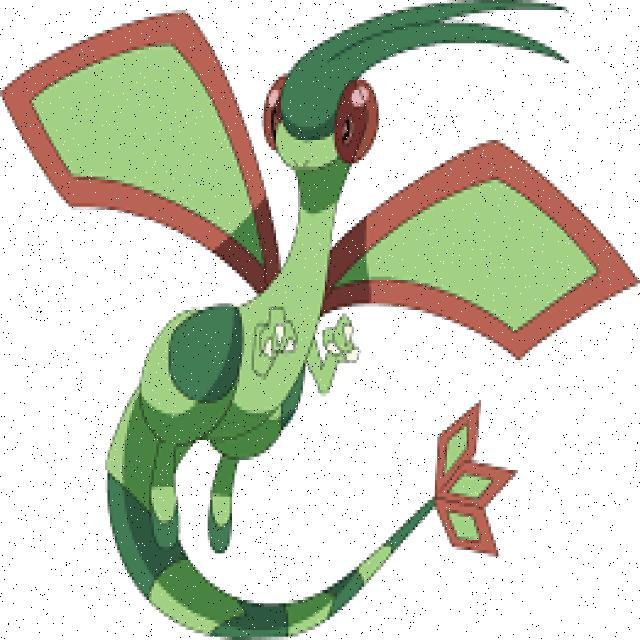flygon: (1, 2, 636, 639)
